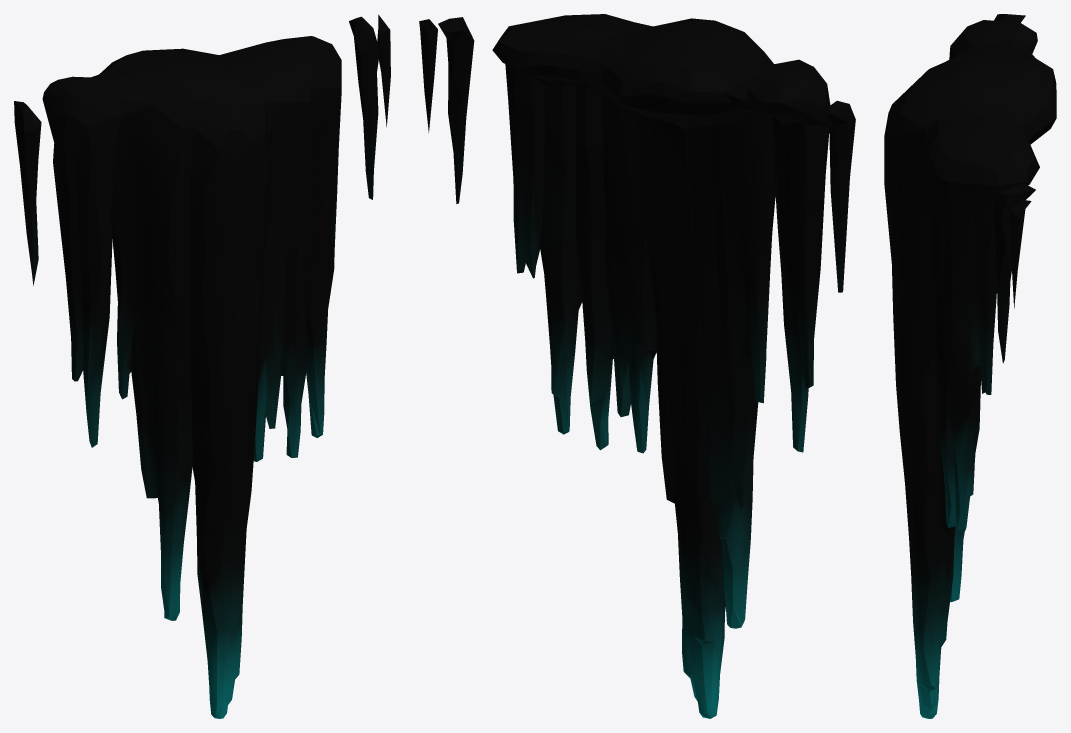
The model's file is Stalactite_3.fbx.
3 views of the same model, side by side, from view 1: azimuth 30°, elevation 25°; view 2: azimuth 150°, elevation 25°; view 3: azimuth 270°, elevation 25° (orthographic). The views are drawn at different scales.
Visible parts, largest first — view 1: Stalactite_3_LOD0; view 2: Stalactite_3_LOD0; view 3: Stalactite_3_LOD0.
Boxes of the visible parts, bbox=[...] form: Stalactite_3_LOD0: bbox=[14, 14, 390, 718]; Stalactite_3_LOD0: bbox=[419, 14, 855, 718]; Stalactite_3_LOD0: bbox=[884, 14, 1056, 718].
Size of what is drawn, in the model's own units: 92.99 by 149 by 36.14.
